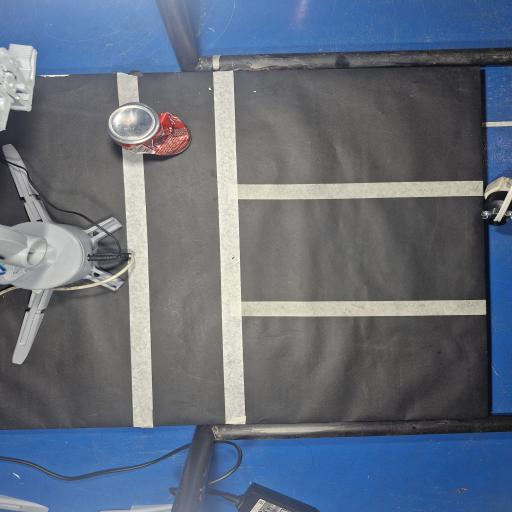lata_defectuoso: (108, 102, 191, 156)
